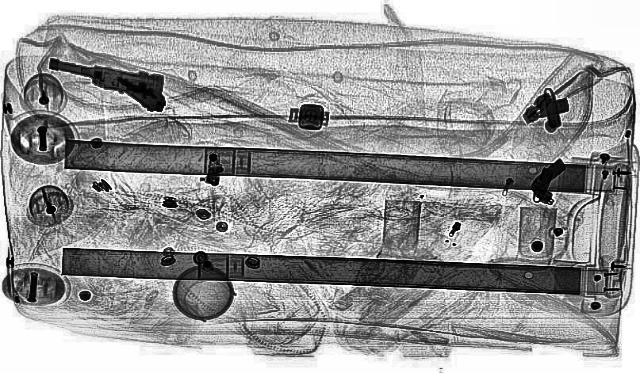Gun: (35, 38, 198, 118)
